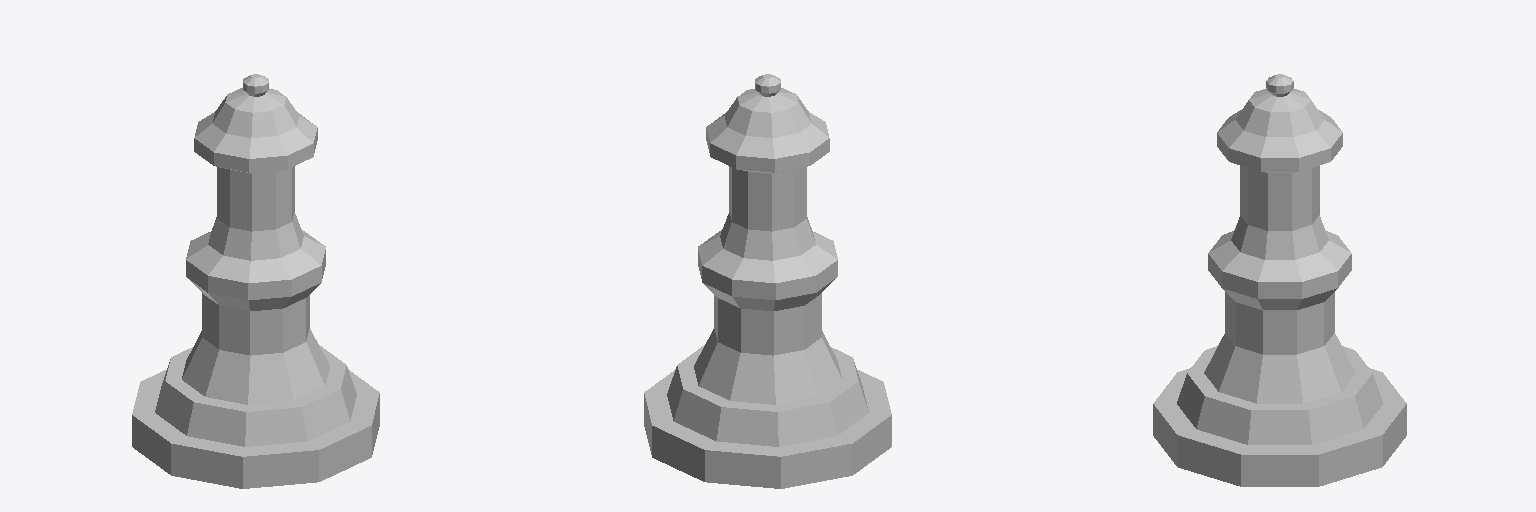
Rendered from bishop.obj.
The picture shows the model from 3 angles: view 1: azimuth 30°, elevation 25°; view 2: azimuth 150°, elevation 25°; view 3: azimuth 270°, elevation 25°; orthographic projection.
Bounding box in the file's own units: 0.9856 × 1.62 × 1.04.